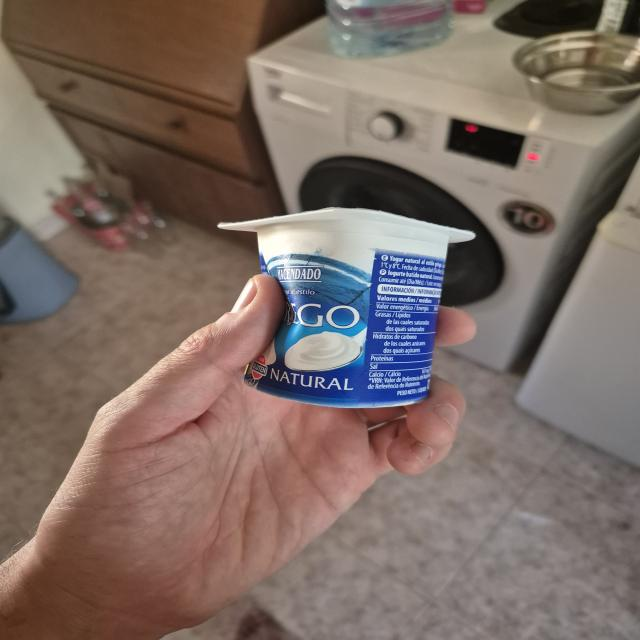yogourt griego: (213, 204, 479, 410)
